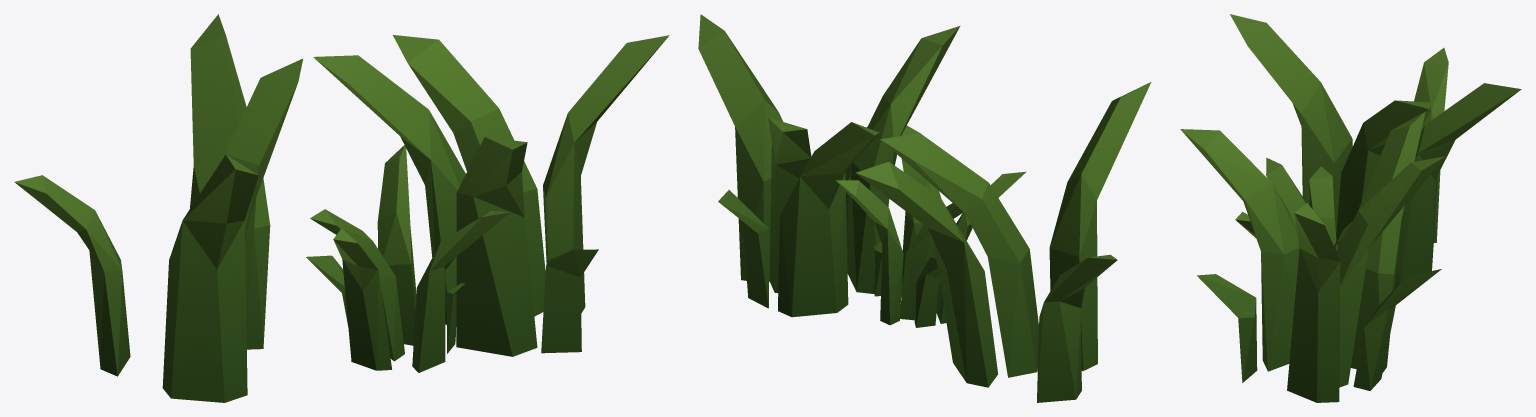
Rendered from Grass_4.fbx.
3 renders of one model, left to right at view 1: azimuth 30°, elevation 25°; view 2: azimuth 150°, elevation 25°; view 3: azimuth 270°, elevation 25°, orthographic. The views are drawn at different scales.
Parts seen in each view (by area): view 1: Grass_4; view 2: Grass_4; view 3: Grass_4.
Boxes of the visible parts, bbox=[...] form: Grass_4: bbox=[14, 14, 669, 402]; Grass_4: bbox=[698, 14, 1151, 402]; Grass_4: bbox=[1180, 14, 1521, 402].
Bounding box in the file's own units: 126 × 58.65 × 80.11.
